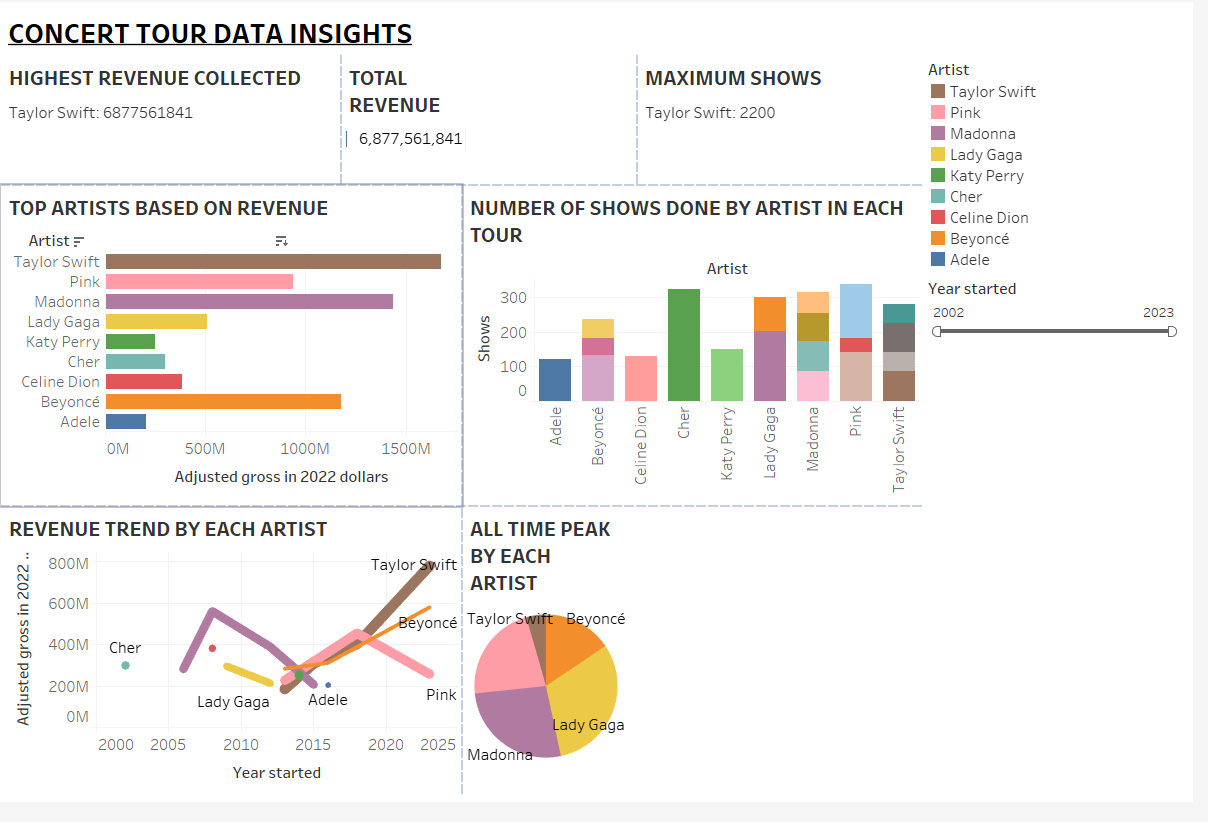

The page's visual inventory and layout, read from the dashboard file:
{"tool":"tableau","page":{"name":"Dashboard 2","canvas":[1200,800],"ordinal":1},"visuals":[{"type":"title","box":[8,8,1184,50]},{"type":"worksheet","title":"Sheet 6","mark":"Automatic","box":[8,58,339.8,129.2]},{"type":"worksheet","title":"Sheet 5","mark":"Bar","box":[347.8,58,296.5,129.2]},{"type":"worksheet","title":"Sheet 7","mark":"Automatic","box":[644.3,58,286.7,129.2]},{"type":"legend","title":"Sheet 2","param":"[federated.0k2avkn1d1bm7o19x3cf10xdjz77].[none:Artist:nk]","box":[931,58,261,219]},{"type":"worksheet","title":"Sheet 2","mark":"Bar","rows":["Artist"],"cols":["Adjusted_gross_in_2022_dollars_"],"box":[8,187.2,461.5,318.3]},{"type":"worksheet","title":"Sheet 1","mark":"Bar","rows":["Shows"],"cols":["Artist"],"box":[469.5,187.2,461.5,318.3]},{"type":"filter","title":"Sheet 3","param":"[federated.0k2avkn1d1bm7o19x3cf10xdjz77].[none:Year_started:qk]","box":[931,277,261,73]},{"type":"worksheet","title":"Sheet 3","mark":"Line","rows":["Adjusted_gross_in_2022_dollars_"],"cols":["Year_started"],"box":[8,505.5,461.5,286.5]},{"type":"worksheet","title":"Sheet 4","mark":"Pie","box":[469.5,505.5,461.5,286.5]}]}

Visuals, with their boxes in screenshot pixels (x1, y1, x2, y2), scaled from the page's 1200x800 canvas onto the 1208x822 screenshot:
title: box(8, 8, 1200, 60)
"Sheet 6" worksheet: box(8, 60, 350, 192)
"Sheet 5" worksheet (Bar marks): box(350, 60, 649, 192)
"Sheet 7" worksheet: box(649, 60, 937, 192)
"Sheet 2" legend: box(937, 60, 1200, 285)
"Sheet 2" worksheet (Bar marks): box(8, 192, 473, 519)
"Sheet 1" worksheet (Bar marks): box(473, 192, 937, 519)
"Sheet 3" filter: box(937, 285, 1200, 360)
"Sheet 3" worksheet (Line marks): box(8, 519, 473, 814)
"Sheet 4" worksheet (Pie marks): box(473, 519, 937, 814)
